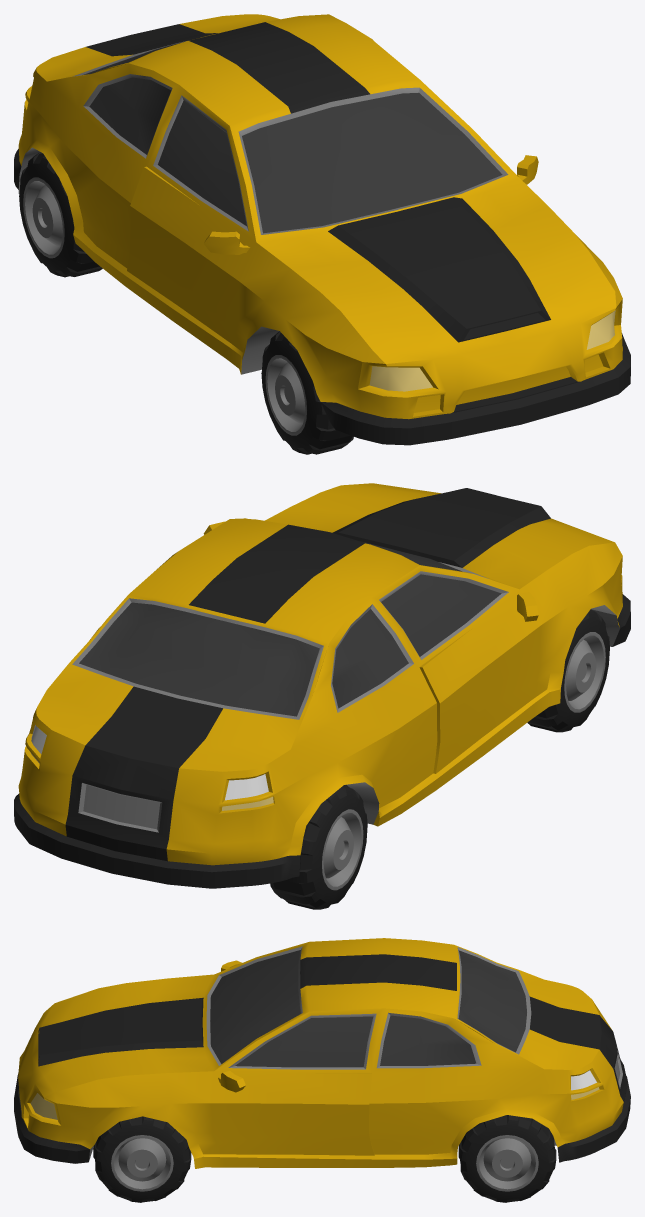
The model's file is S_VehicleSports.gltf.
3 views of the same model, one above another, from view 1: azimuth 30°, elevation 25°; view 2: azimuth 150°, elevation 25°; view 3: azimuth 270°, elevation 25° (orthographic). The views are drawn at different scales.
Parts seen in each view (by area): view 1: Cube_009-col, Cube_001-col, Cube_004-col; view 2: Cube_009-col, Cube_004-col, Cube_001-col; view 3: Cube_009-col, Cube_004-col, Cube_002-col.
Part boxes in pixels (bbox=[...]): Cube_009-col: bbox=[14, 14, 630, 445]; Cube_001-col: bbox=[261, 331, 353, 454]; Cube_004-col: bbox=[19, 152, 102, 277]; Cube_009-col: bbox=[14, 483, 630, 888]; Cube_004-col: bbox=[270, 785, 367, 909]; Cube_001-col: bbox=[527, 609, 609, 732]; Cube_009-col: bbox=[14, 938, 630, 1168]; Cube_004-col: bbox=[458, 1115, 556, 1202]; Cube_002-col: bbox=[93, 1116, 191, 1202].
Size of the model in its own units: 2.67 by 1.86 by 5.66.
Materials: 3 (1 with a texture image).
